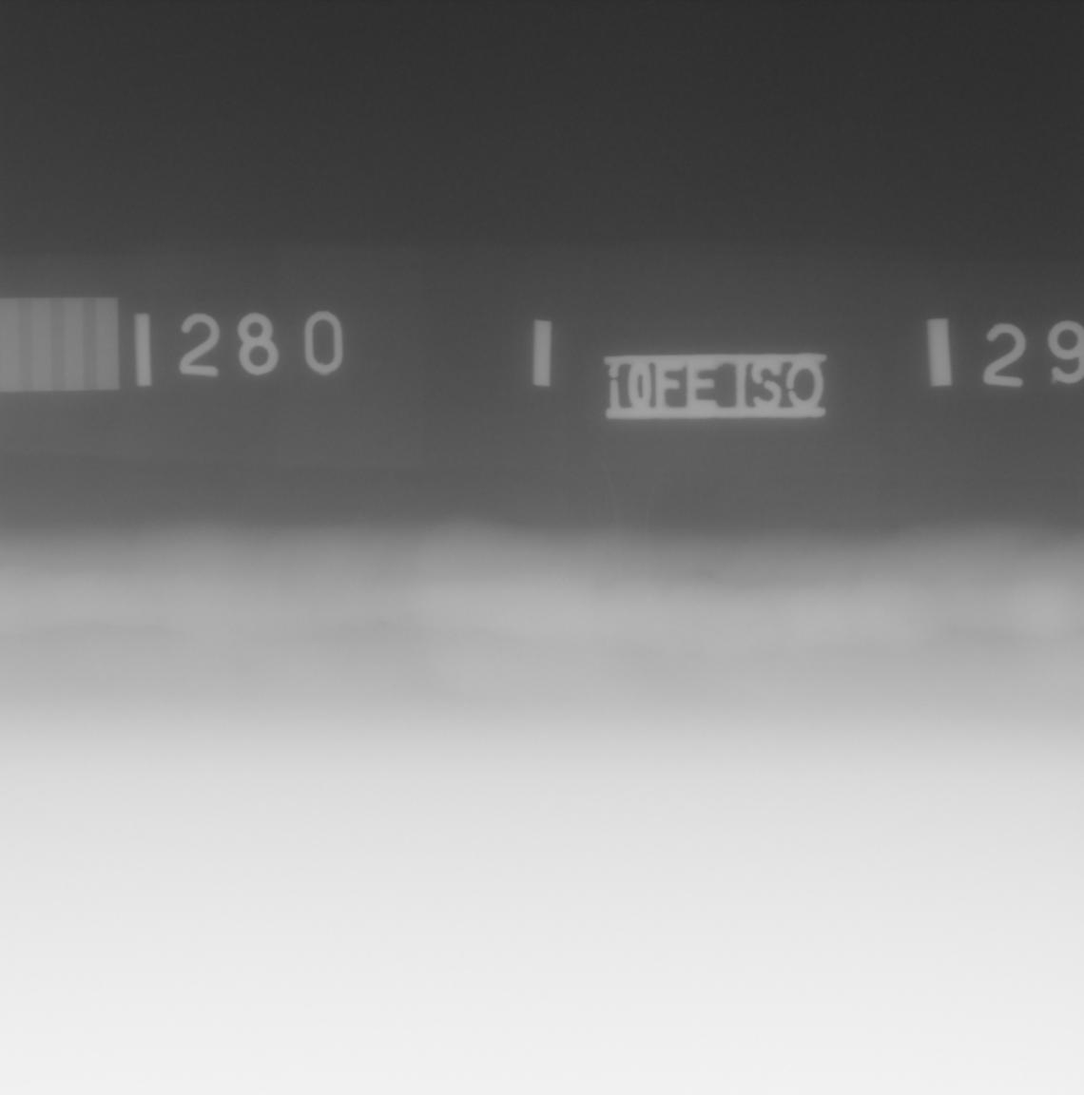Pore/Porosity: (379, 622, 387, 629)
